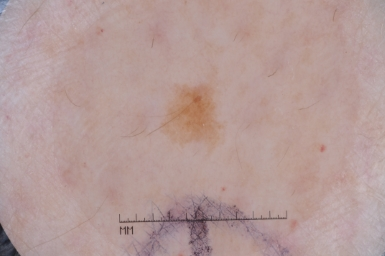seborrheic keratosis: (136, 61, 249, 163)
